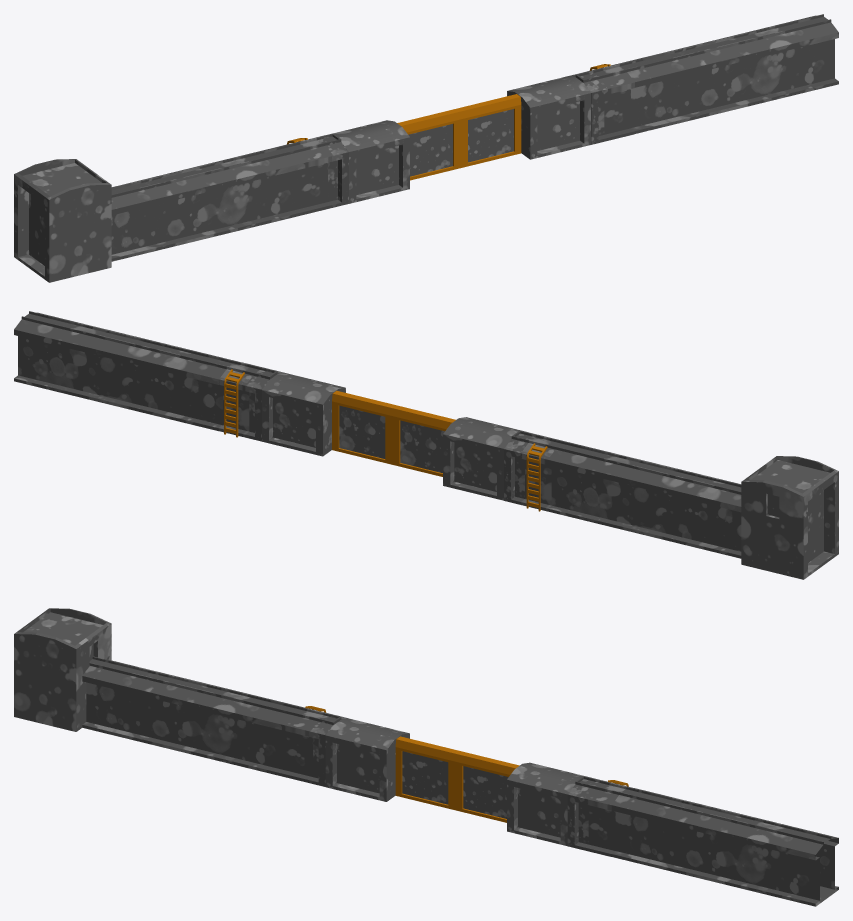
File: Base_Models.fbx
The picture shows the model from 3 angles, top to bottom: view 1: azimuth 30°, elevation 25°; view 2: azimuth 150°, elevation 25°; view 3: azimuth 330°, elevation 25°; orthographic projection.
Visible parts, largest first — view 1: polySurface84, polySurface86, polySurface85, polySurface94, polySurface90, polySurface96, polySurface95, polySurface92, polySurface89, polySurface87, polySurface93; view 2: polySurface84, polySurface86, polySurface85, polySurface94, polySurface90, polySurface96, polySurface95, polySurface89, polySurface92, polySurface87, polySurface93; view 3: polySurface84, polySurface86, polySurface85, polySurface90, polySurface94, polySurface95, polySurface96, polySurface92, polySurface89, polySurface93, polySurface87.
Part boxes in pixels (<box>): polySurface84: <box>611,14,838,133</box>; polySurface86: <box>111,144,305,261</box>; polySurface85: <box>14,159,111,282</box>; polySurface94: <box>507,76,590,159</box>; polySurface90: <box>327,120,409,203</box>; polySurface96: <box>457,94,521,167</box>; polySurface95: <box>397,108,460,180</box>; polySurface92: <box>586,64,634,140</box>; polySurface89: <box>283,138,331,214</box>; polySurface87: <box>309,133,348,207</box>; polySurface93: <box>569,70,608,144</box>; polySurface84: <box>14,311,240,431</box>; polySurface86: <box>547,441,741,558</box>; polySurface85: <box>741,456,838,579</box>; polySurface94: <box>262,373,345,456</box>; polySurface90: <box>443,417,526,500</box>; polySurface96: <box>332,390,396,464</box>; polySurface95: <box>392,405,455,476</box>; polySurface89: <box>520,435,569,511</box>; polySurface92: <box>219,361,267,437</box>; polySurface87: <box>504,430,543,504</box>; polySurface93: <box>245,367,284,441</box>; polySurface84: <box>611,786,838,906</box>; polySurface86: <box>82,656,304,776</box>; polySurface85: <box>14,608,111,731</box>; polySurface90: <box>325,718,409,801</box>; polySurface94: <box>507,762,590,846</box>; polySurface95: <box>395,736,459,809</box>; polySurface96: <box>455,751,519,822</box>; polySurface92: <box>584,780,632,856</box>; polySurface89: <box>282,706,331,782</box>; polySurface93: <box>567,776,606,850</box>; polySurface87: <box>309,713,348,786</box>.
Bounding box in the file's own units: 90.59 × 9.66 × 6.94.
3 materials, 2 textured.
